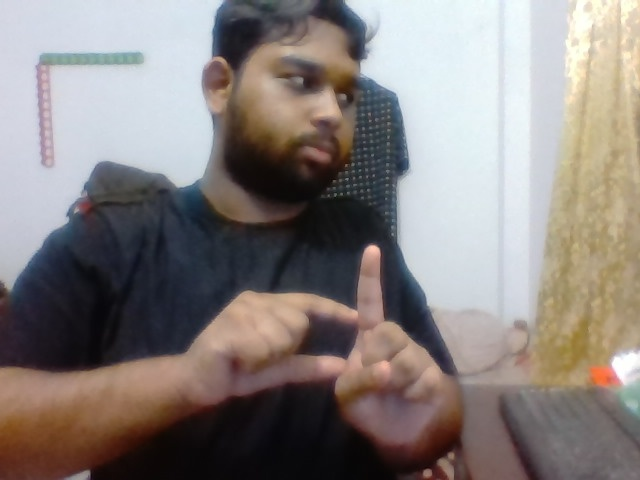D: (208, 229, 450, 443)
